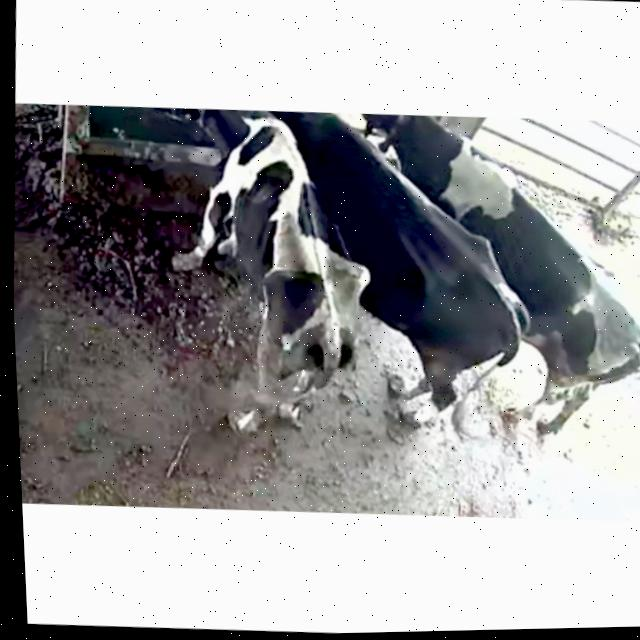drink: (224, 107, 358, 165)
